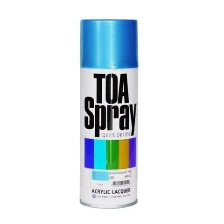aerosol_cans: (74, 13, 143, 212)
